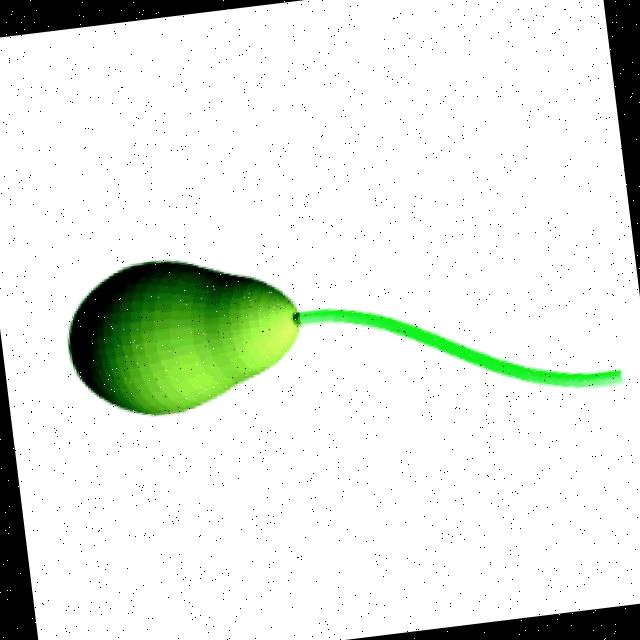fruit: (65, 259, 300, 415)
peduncle: (292, 307, 623, 389)
